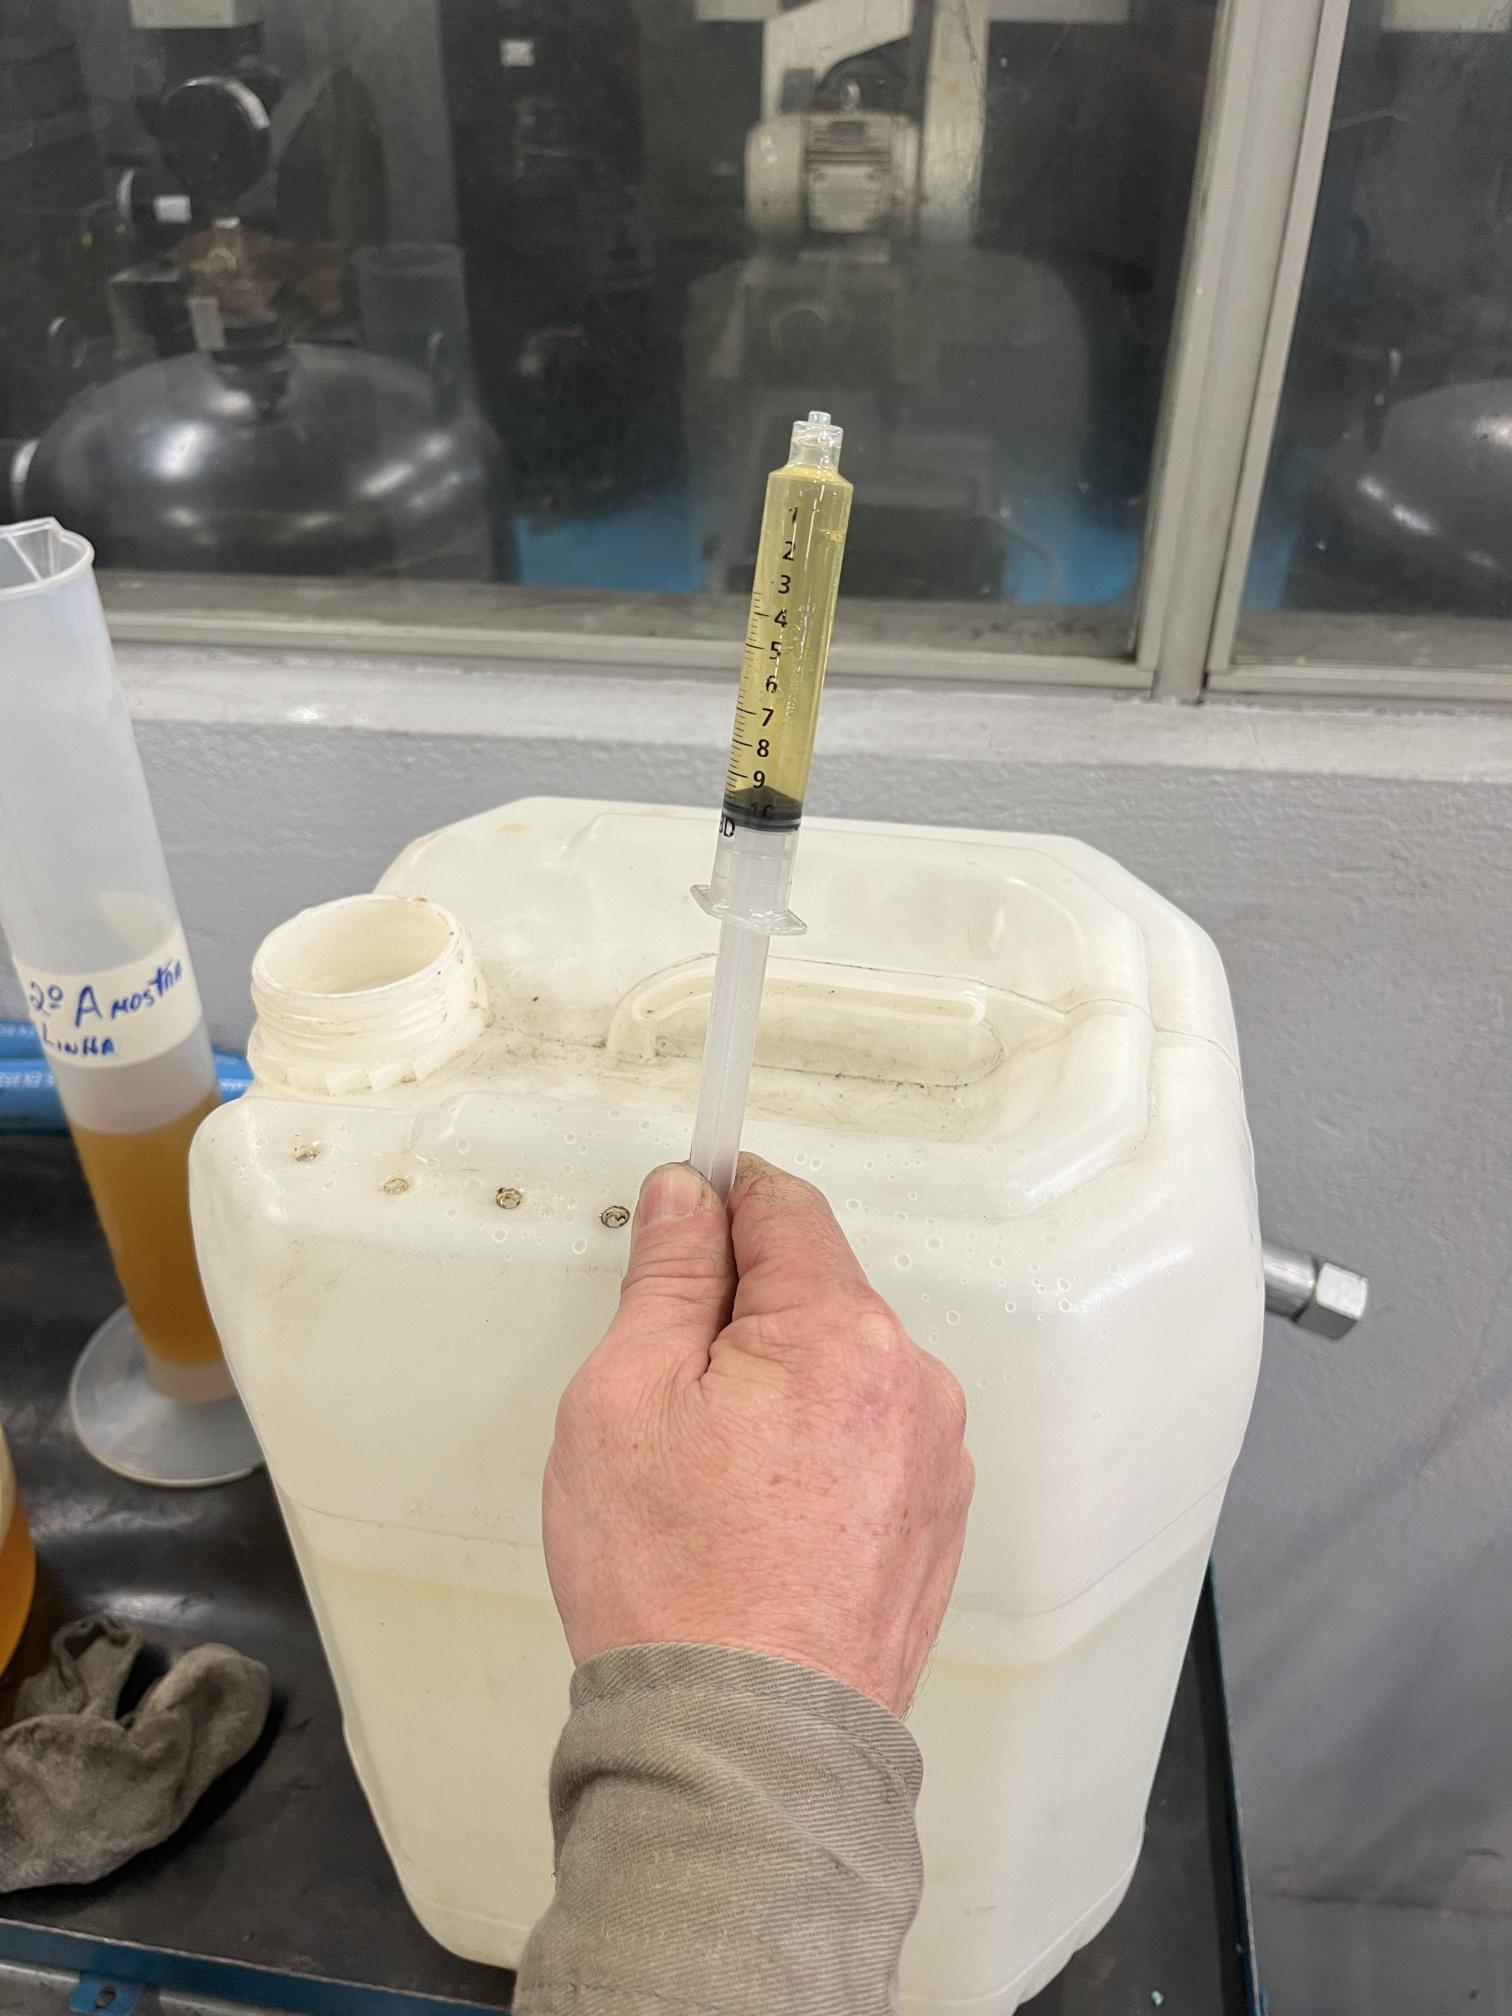Seringa de Oleo - 10ml: (654, 335, 889, 945)
